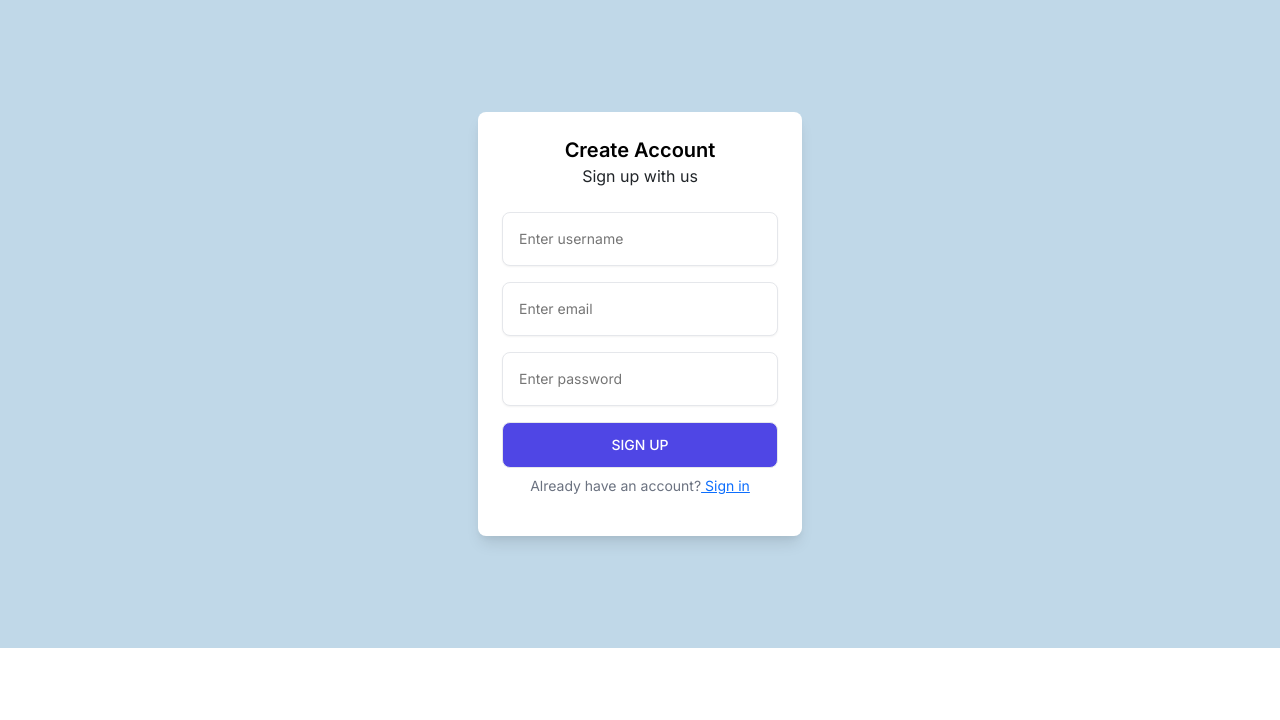
Sign Up Form › should display validation errors when fields are empty
The image size is (1280, 720).
// Try to submit the form without filling out any fields
Step 1. Click the button with test id "submit-button" → (640, 445), box [502, 422, 778, 468]
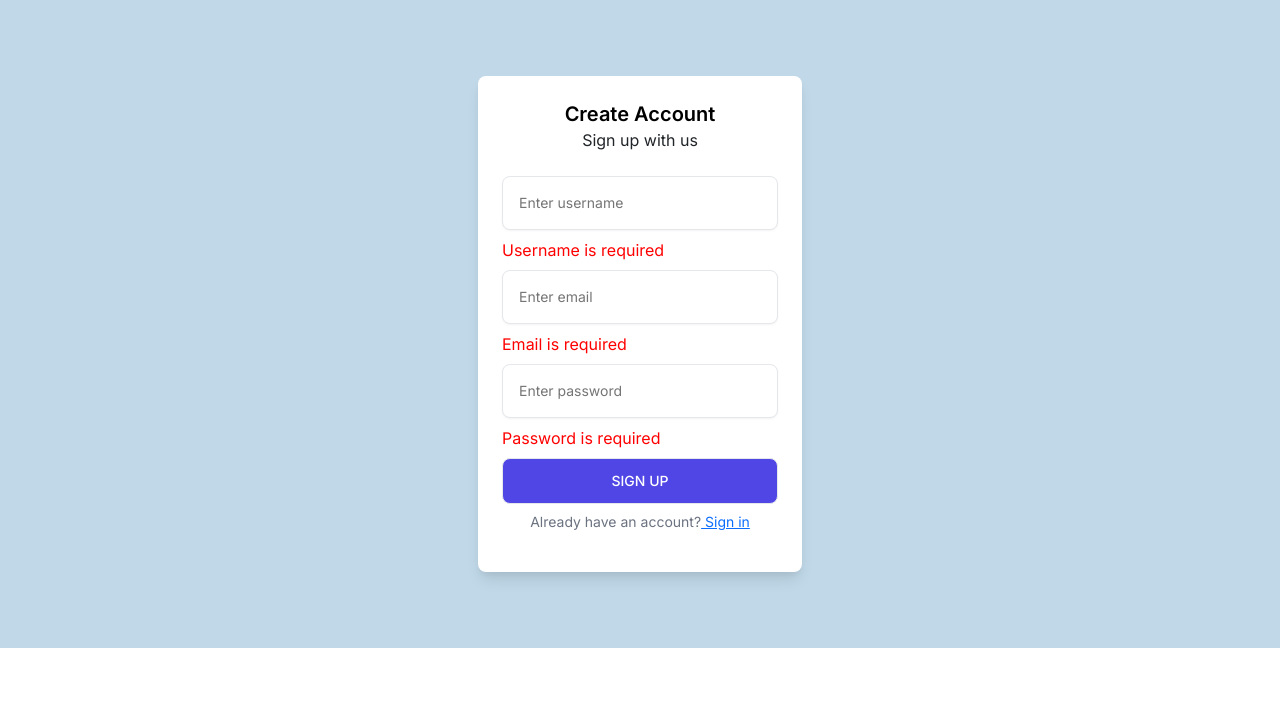
Now the text "Username is required" is shown, box [502, 240, 664, 260]
Now the text "Email is required" is shown, box [502, 334, 627, 354]
Now the text "Password is required" is shown, box [502, 428, 660, 448]
